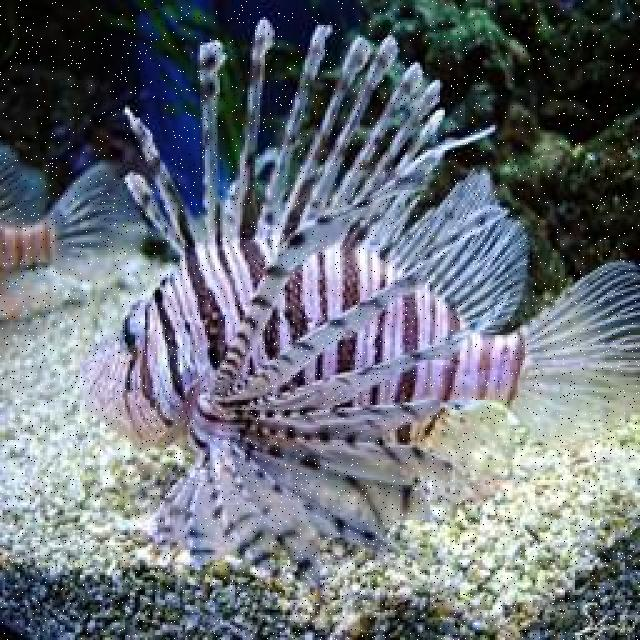fish: (80, 15, 638, 590), (3, 144, 146, 284)
